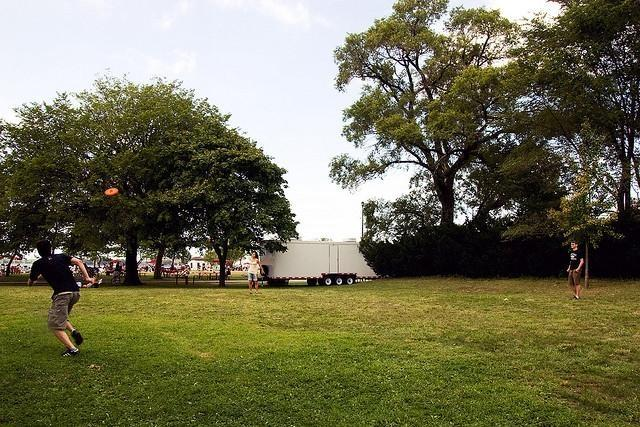truck: (260, 241, 382, 287)
